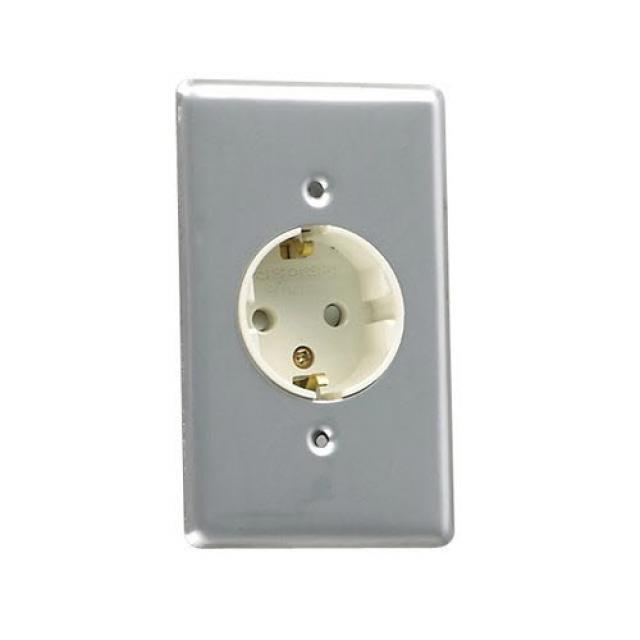typeb: (158, 53, 490, 563)
